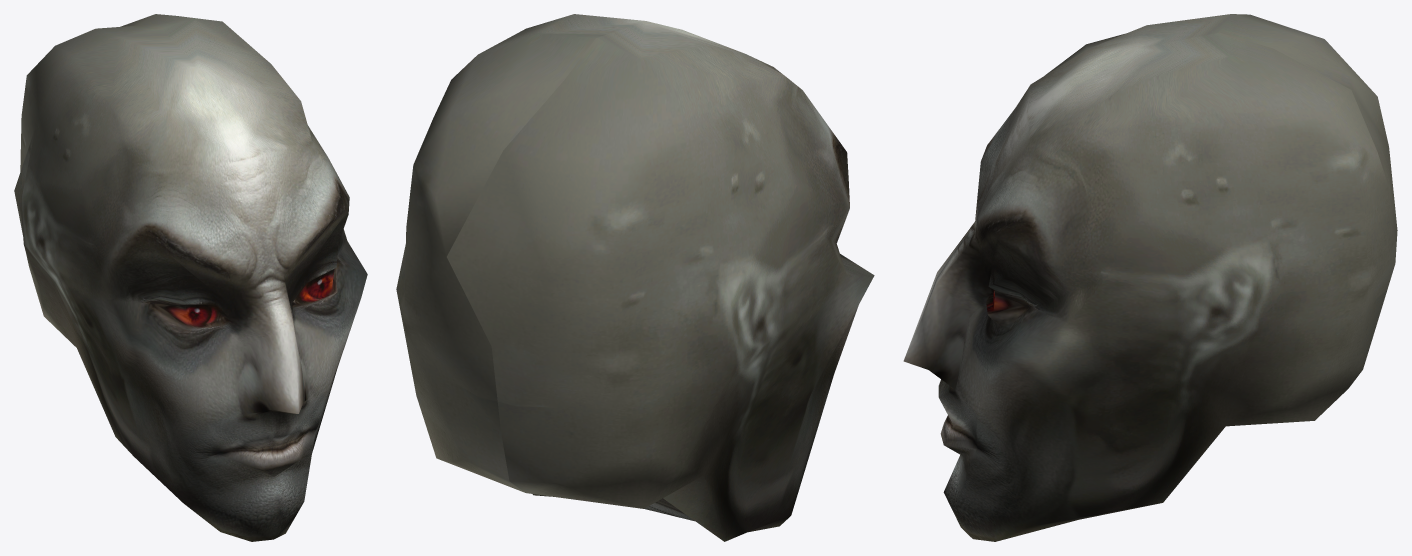
Rendered from b_n_dark elf_m_head_17.glb.
3 renders of one model, left to right at view 1: azimuth 30°, elevation 25°; view 2: azimuth 150°, elevation 25°; view 3: azimuth 270°, elevation 25°, orthographic. The views are drawn at different scales.
Visible parts, largest first — view 1: Tri B_N_Dark Elf_M_Head_17; view 2: Tri B_N_Dark Elf_M_Head_17; view 3: Tri B_N_Dark Elf_M_Head_17.
Boxes of the visible parts, x1,y1,x2,y2 form: Tri B_N_Dark Elf_M_Head_17: (14,14,367,541); Tri B_N_Dark Elf_M_Head_17: (396,14,874,541); Tri B_N_Dark Elf_M_Head_17: (903,14,1397,541).
Size of the model in its own units: 0.093 by 0.1577 by 0.1421.
Materials: 1 (1 with a texture image).
